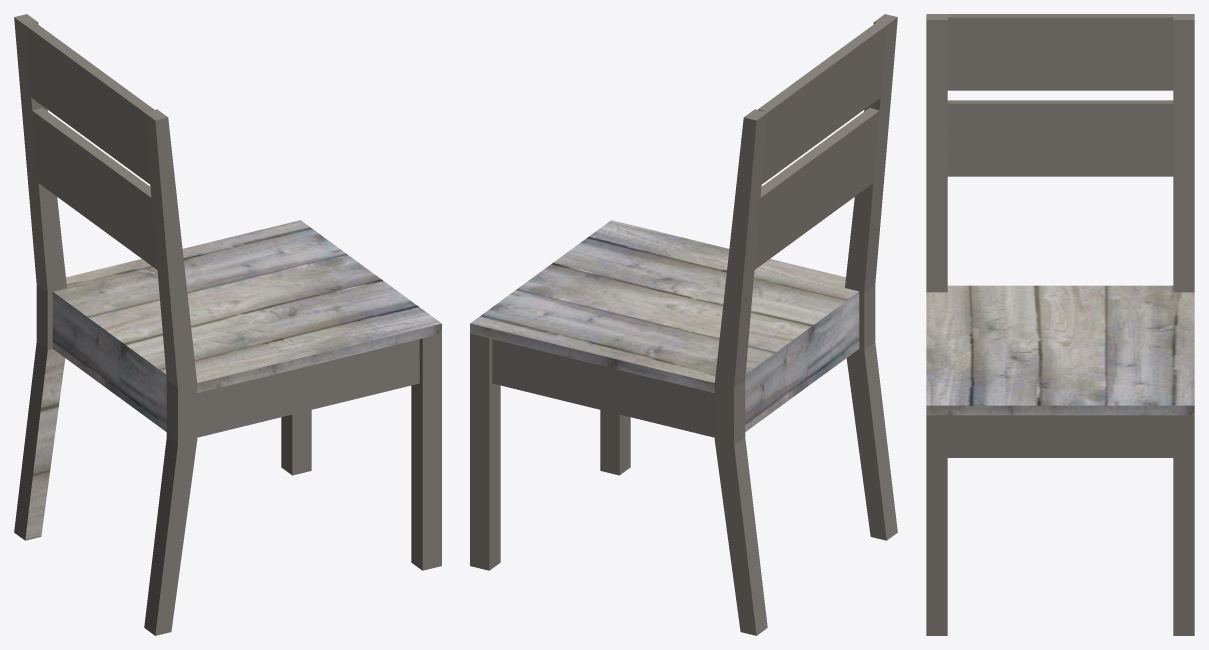
File: Chair.fbx
The picture shows the model from 3 angles, left to right: view 1: azimuth 30°, elevation 25°; view 2: azimuth 150°, elevation 25°; view 3: azimuth 270°, elevation 25°; orthographic projection. The views are drawn at different scales.
Visible parts, largest first — view 1: instance_0.001; view 2: instance_0.001; view 3: instance_0.001.
Part boxes in pixels (bbox=[...]): instance_0.001: bbox=[14, 14, 441, 635]; instance_0.001: bbox=[470, 14, 897, 635]; instance_0.001: bbox=[926, 14, 1194, 635].
Bounding box in the file's own units: 56.52 × 97.32 × 48.26.
